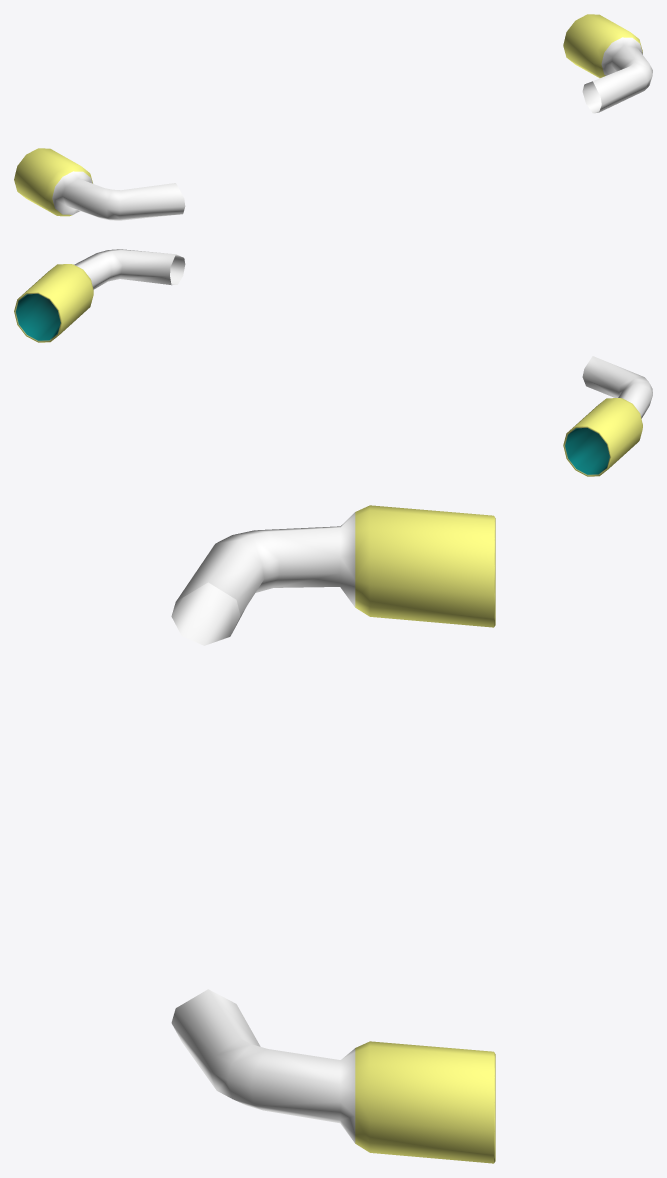
Rendered from Car_Mini_CountrymanJCW_2017_Exhausts_SetFA_AltA.fbx.
3 views of the same model, one above another, from view 1: azimuth 30°, elevation 25°; view 2: azimuth 150°, elevation 25°; view 3: azimuth 270°, elevation 25° (orthographic). The views are drawn at different scales.
Visible parts, largest first — view 1: Exhausts 6; view 2: Exhausts 6; view 3: Exhausts 6.
Boxes of the visible parts, x1,y1,x2,y2 form: Exhausts 6: [14, 14, 652, 220]; Exhausts 6: [14, 249, 652, 476]; Exhausts 6: [171, 505, 495, 1163].
Bounding box in the file's own units: 1.15 × 0.1034 × 0.2707.
